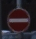No entry: (5, 6, 31, 34)
